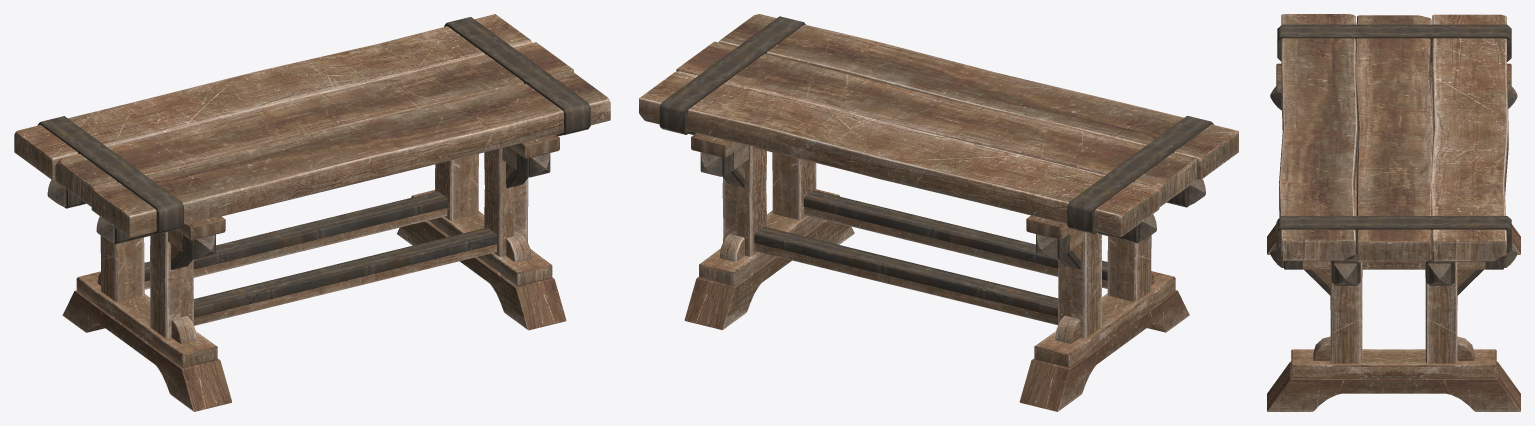
3 views of the same model, side by side, from view 1: azimuth 30°, elevation 25°; view 2: azimuth 150°, elevation 25°; view 3: azimuth 270°, elevation 25° (orthographic). The views are drawn at different scales.
Parts seen in each view (by area): view 1: SM_DR_Table_A_01_01_LOD0; view 2: SM_DR_Table_A_01_01_LOD0; view 3: SM_DR_Table_A_01_01_LOD0.
Boxes of the visible parts, x1=… form: SM_DR_Table_A_01_01_LOD0: x1=14, y1=14, x2=610, y2=411; SM_DR_Table_A_01_01_LOD0: x1=639, y1=14, x2=1238, y2=411; SM_DR_Table_A_01_01_LOD0: x1=1267, y1=14, x2=1520, y2=411.
Bounding box in the file's own units: 2.77 × 1.12 × 1.3.
3 materials, 3 textured.
